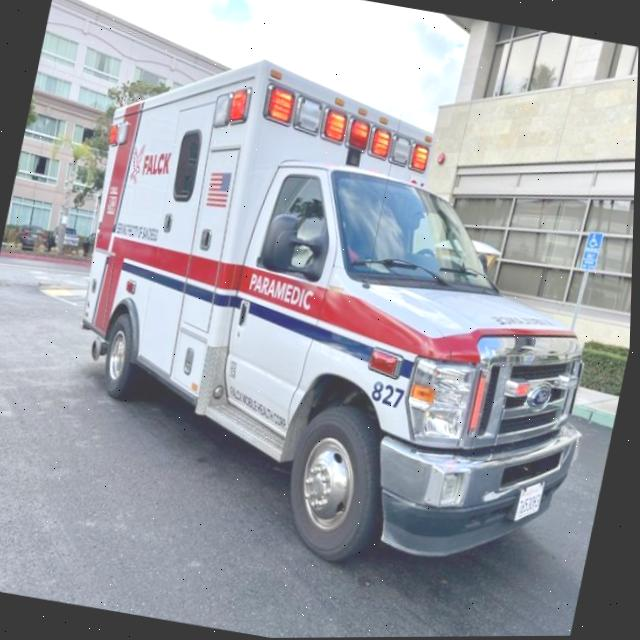emergency: (166, 51, 639, 603)
